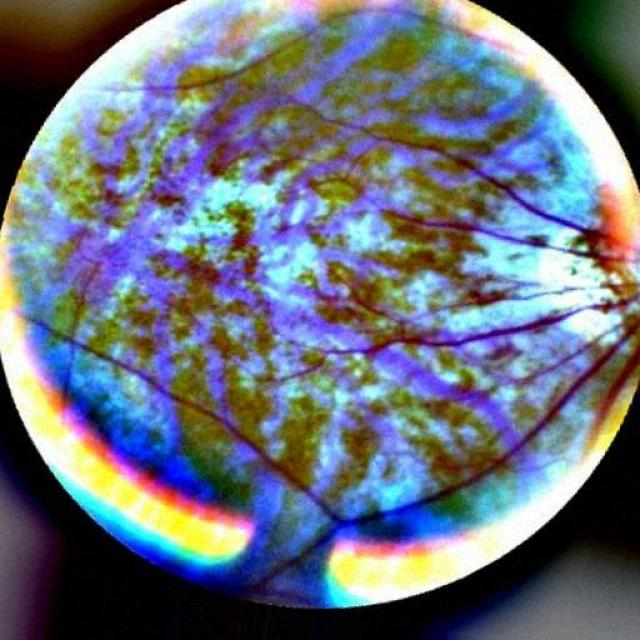Nerves: (36, 50, 639, 526)
